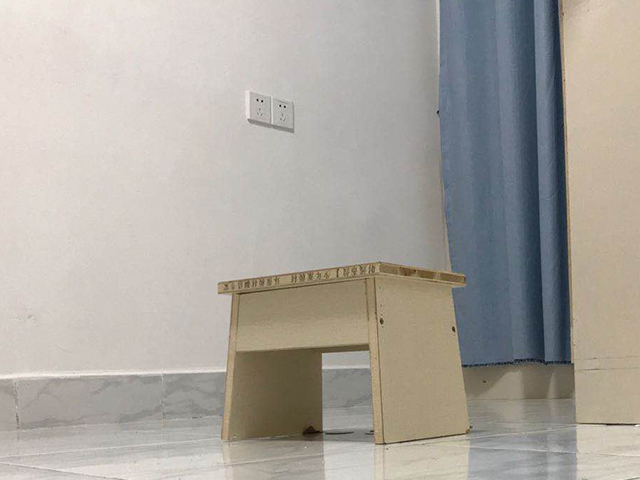curtain: (438, 1, 571, 369)
stool: (215, 260, 473, 446)
